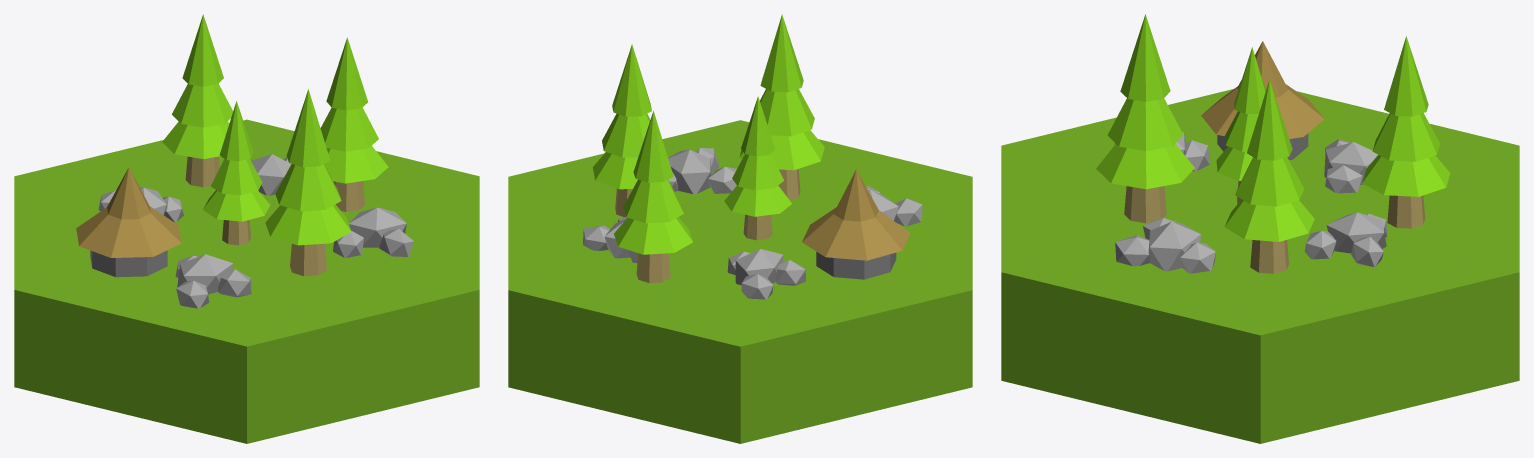
Rendered from Casas_Pinos_Rocas_1.fbx.
3 views of the same model, side by side, from view 1: azimuth 30°, elevation 25°; view 2: azimuth 150°, elevation 25°; view 3: azimuth 270°, elevation 25° (orthographic). The views are drawn at different scales.
Parts seen in each view (by area): view 1: Casas_Pinos_Rocas_1; view 2: Casas_Pinos_Rocas_1; view 3: Casas_Pinos_Rocas_1.
Boxes of the visible parts, <box> form: Casas_Pinos_Rocas_1: <box>14,14,479,443</box>; Casas_Pinos_Rocas_1: <box>508,14,972,443</box>; Casas_Pinos_Rocas_1: <box>1001,14,1519,443</box>.
Bounding box in the file's own units: 200 × 114 × 173.
